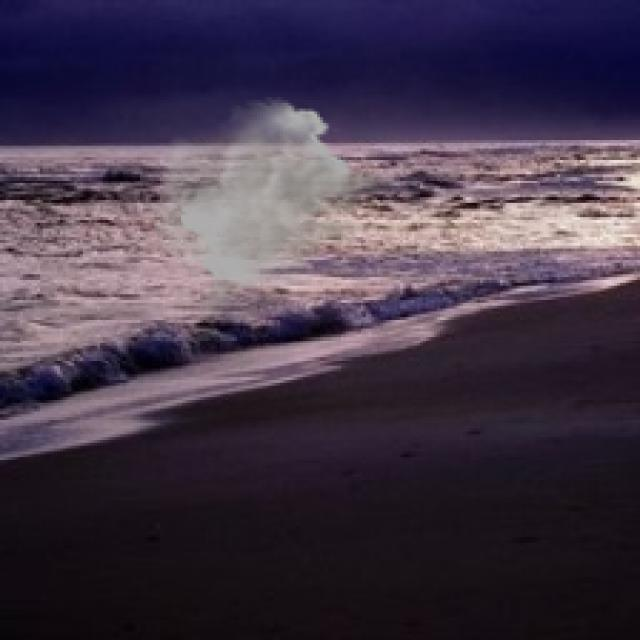Smoke: (146, 97, 400, 320)
